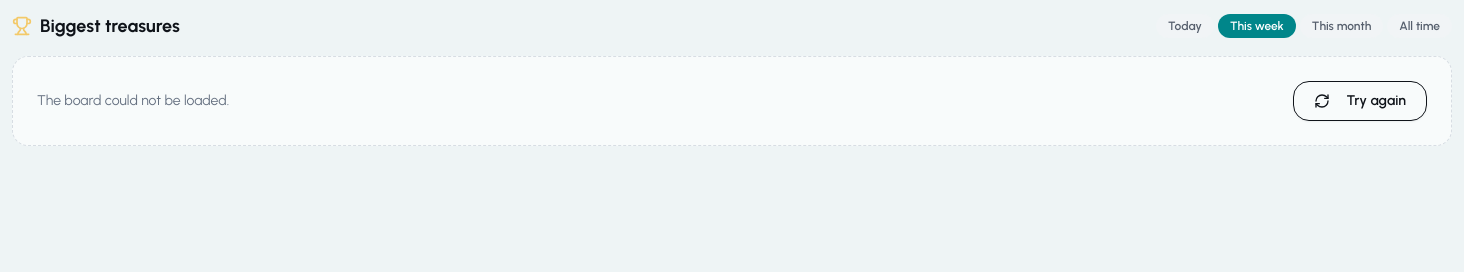
Test: TopGiftsBoard › fails as a section that offers a retry, not as a broken page
The width and height of the screenshot is (1464, 272).
Check: the text "The board could not be loaded." is shown, box [37,91,229,111]
Click the button "Try again": (1360, 101) [1293,81,1427,121]
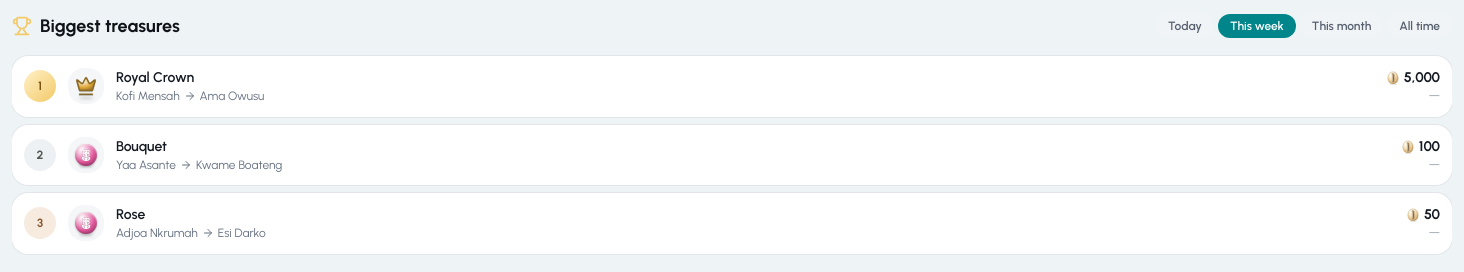
Check: the text "Royal Crown" is shown, box [116,69,194,86]
